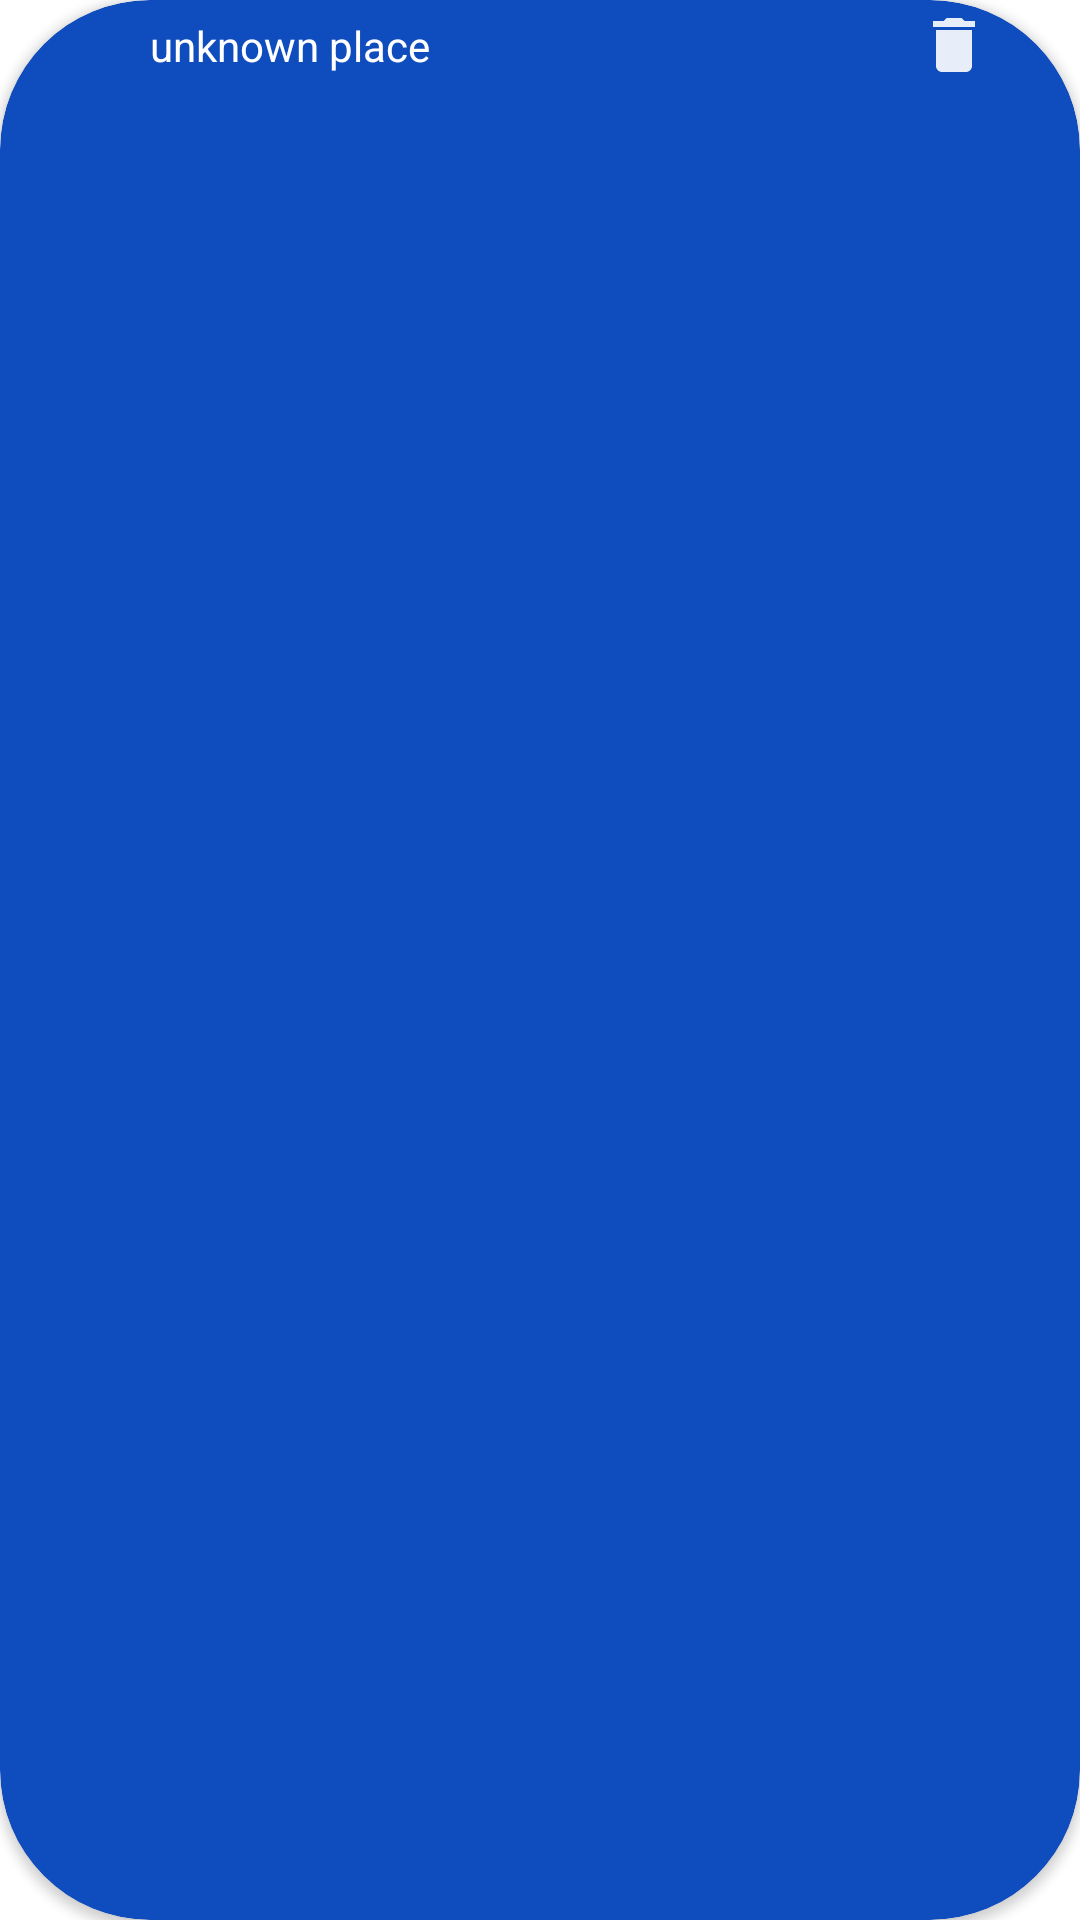

Where icons sit on this 1080w x 1920h app screen, as (left=x1, top=y1, right=x2, bottom=y2):
delete: (left=933, top=18, right=975, bottom=72)
